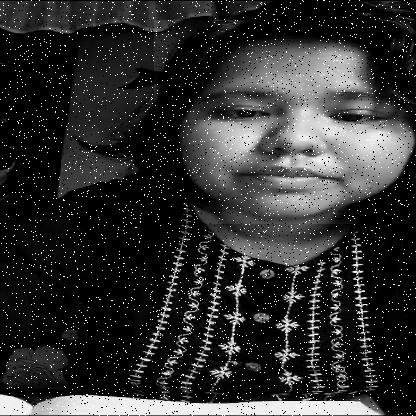Normal: (154, 20, 413, 224)
